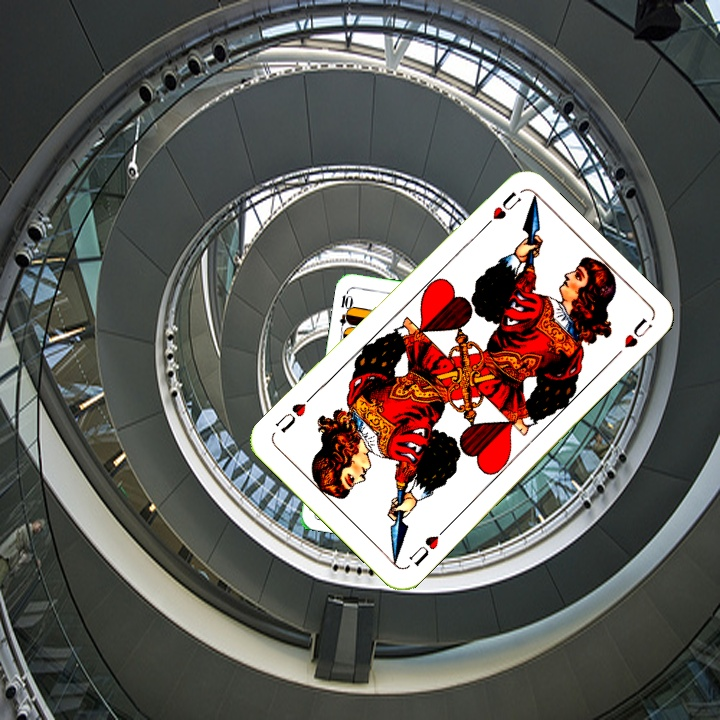E10: (336, 287, 356, 327)
HU: (476, 187, 524, 234), (405, 523, 449, 569)
